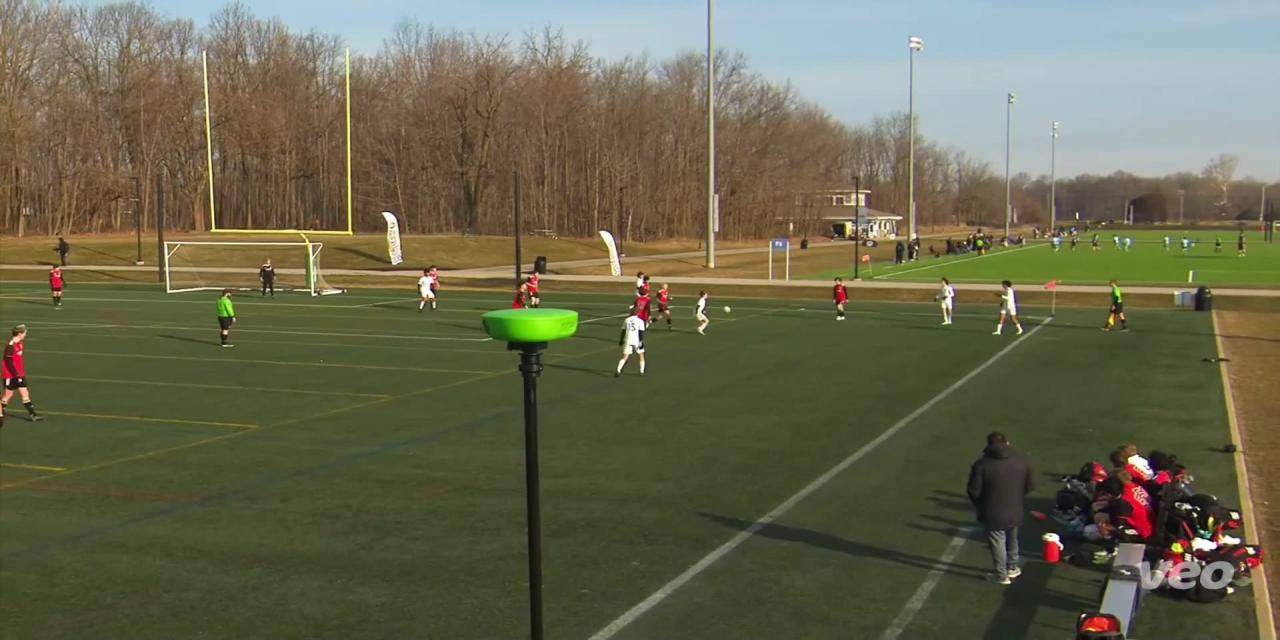sports ball: (721, 302, 736, 317)
